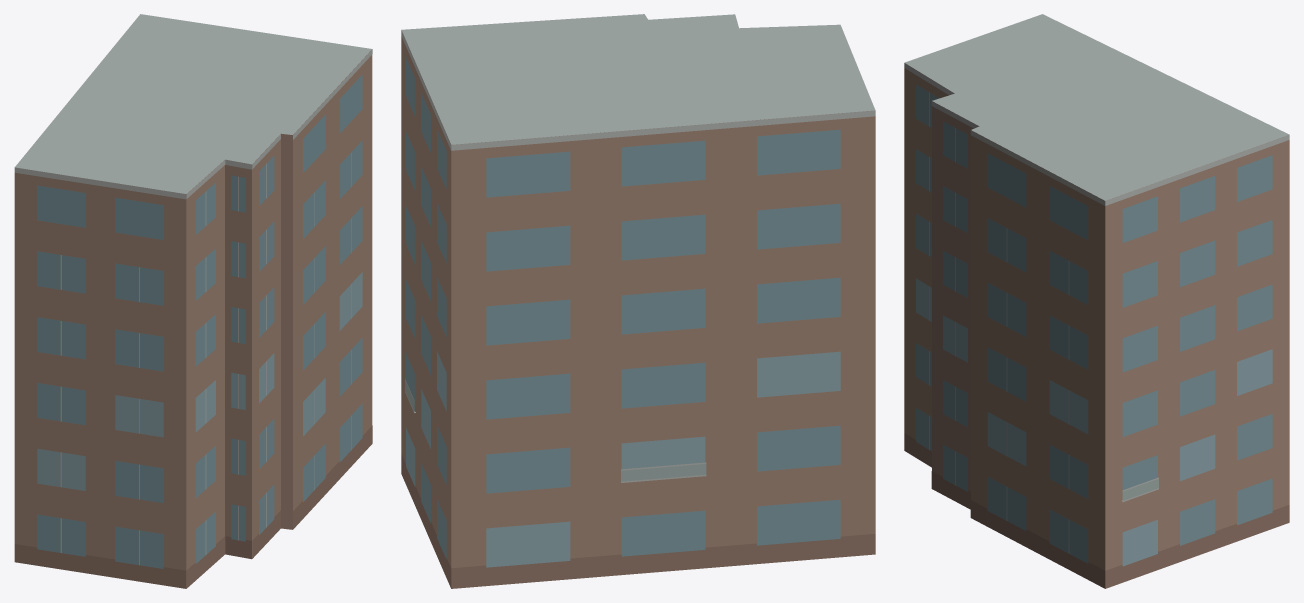
Rendered from survey-upis-32736318.glb.
The picture shows the model from 3 angles, left to right: view 1: azimuth 30°, elevation 25°; view 2: azimuth 150°, elevation 25°; view 3: azimuth 270°, elevation 25°; orthographic projection. The views are drawn at different scales.
Visible parts, largest first — view 1: survey-upis-32736318.tmp; view 2: survey-upis-32736318.tmp; view 3: survey-upis-32736318.tmp.
Boxes of the visible parts, x1,y1,x2,y2 form: survey-upis-32736318.tmp: [14, 14, 372, 588]; survey-upis-32736318.tmp: [401, 14, 875, 588]; survey-upis-32736318.tmp: [904, 14, 1289, 588].
Size of the model in its own units: 18.91 by 18.3 by 16.48.
